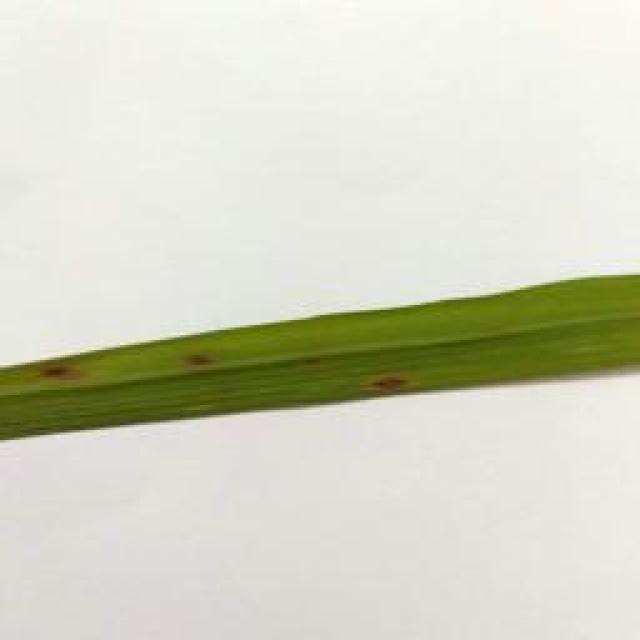Unhealthy: (359, 374, 417, 396), (39, 364, 85, 380), (186, 353, 215, 367), (300, 357, 322, 368)
